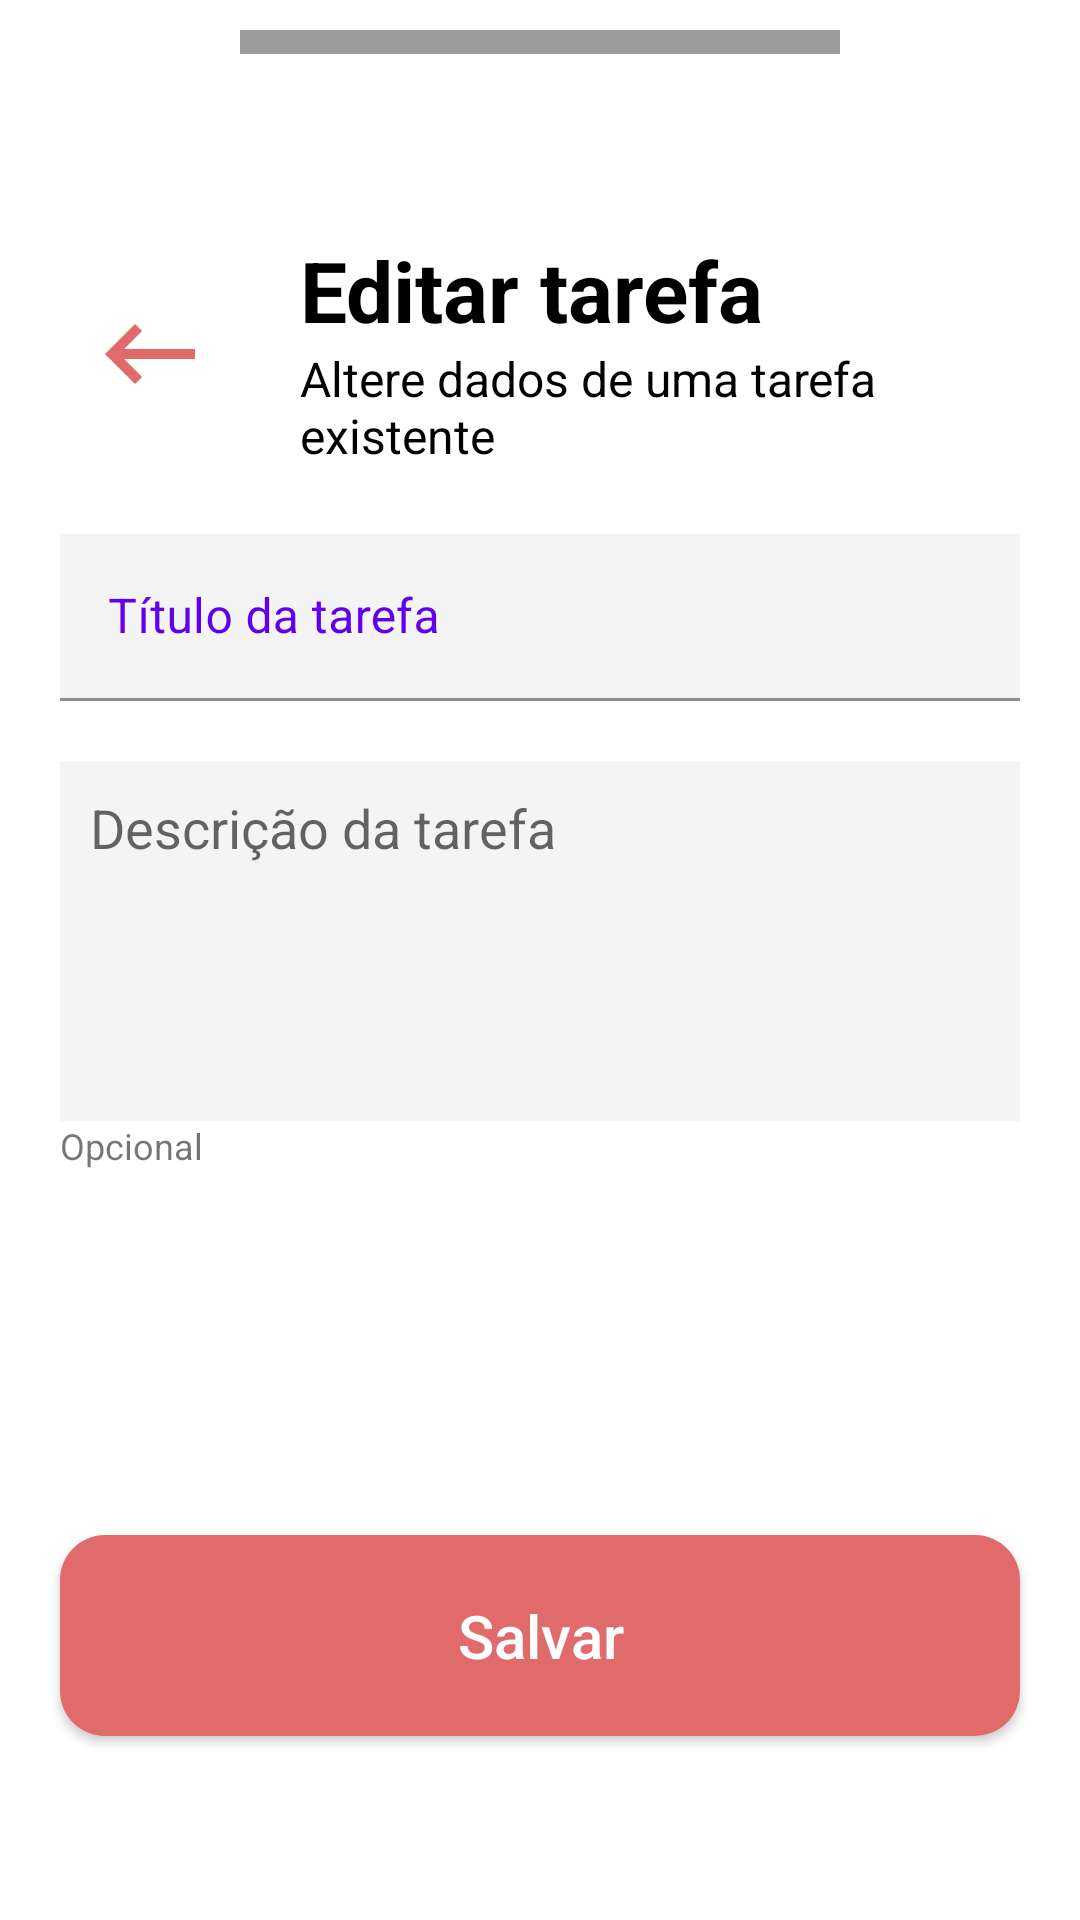

Icons on this 1080×1920 Android screen, each with the point to tap as point (x, y):
icback: point (150, 354)
